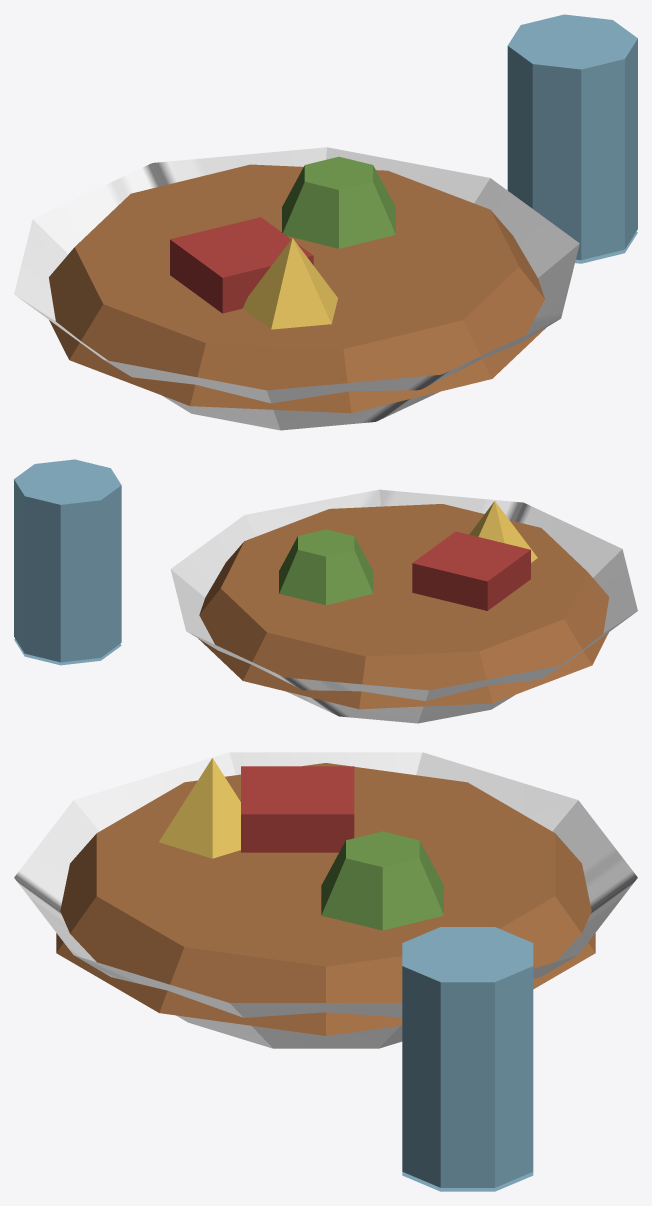
File: meal_lavish.obj
3 renders of one model, top to bottom at view 1: azimuth 30°, elevation 25°; view 2: azimuth 150°, elevation 25°; view 3: azimuth 270°, elevation 25°, orthographic. The views are drawn at different scales.
Visible parts, largest first — view 1: meal_lavish; view 2: meal_lavish; view 3: meal_lavish.
Boxes of the visible parts, x1,y1,x2,y2 form: meal_lavish: [14, 14, 637, 430]; meal_lavish: [14, 459, 637, 723]; meal_lavish: [14, 752, 637, 1191].
Size of the model in its own units: 0.5554 by 0.163 by 0.44.
